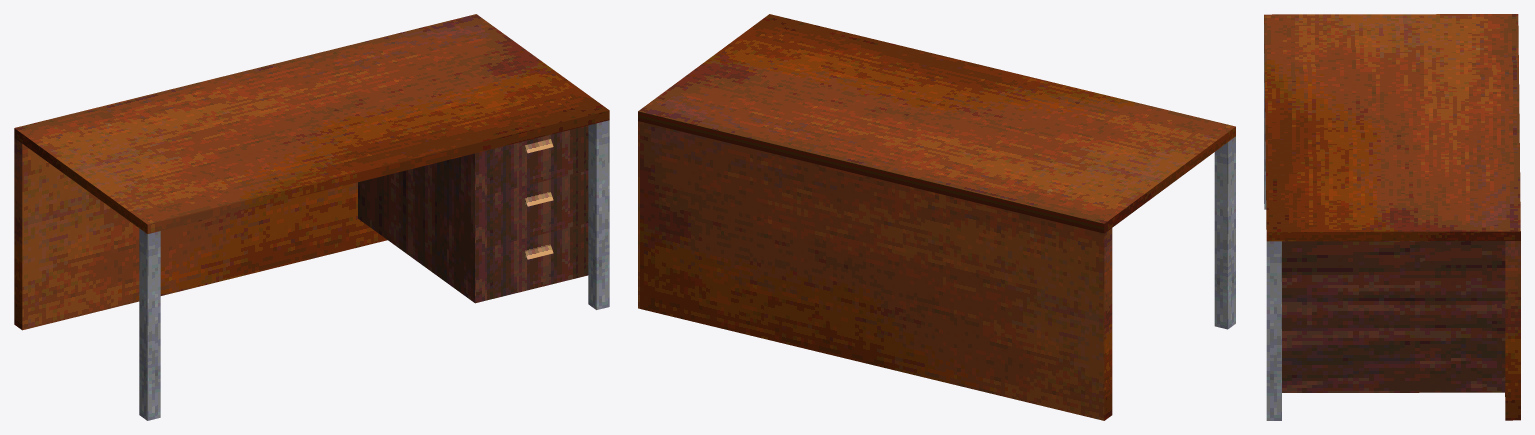
Rendered from desk1_alt3.glb.
3 views of the same model, side by side, from view 1: azimuth 30°, elevation 25°; view 2: azimuth 150°, elevation 25°; view 3: azimuth 270°, elevation 25° (orthographic). The views are drawn at different scales.
Parts seen in each view (by area): view 1: desk1_alt3; view 2: desk1_alt3; view 3: desk1_alt3.
Boxes of the visible parts, x1,y1,x2,y2 form: desk1_alt3: [14, 14, 609, 420]; desk1_alt3: [638, 14, 1235, 420]; desk1_alt3: [1264, 14, 1520, 420].
Size of the model in its own units: 2.21 by 0.8911 by 1.1.
1 material, 1 textured.
